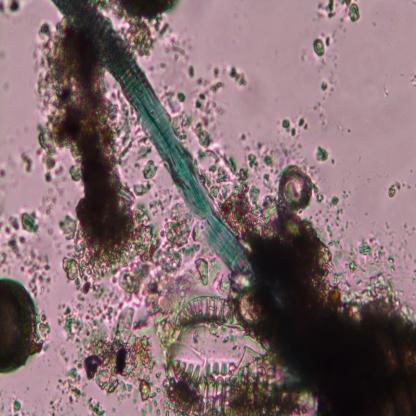Background material: (250, 214, 416, 415), (38, 23, 155, 262), (52, 292, 162, 414), (331, 220, 416, 320), (200, 132, 277, 235), (0, 200, 52, 293), (172, 54, 221, 148), (154, 217, 211, 287), (124, 138, 158, 200), (156, 11, 192, 65), (118, 250, 158, 292), (314, 1, 362, 22), (314, 187, 346, 217), (34, 312, 53, 361), (280, 111, 308, 136), (71, 277, 106, 295), (310, 31, 332, 59), (223, 65, 250, 86), (0, 1, 25, 20), (312, 98, 327, 124), (20, 150, 34, 176), (8, 389, 22, 414), (388, 177, 402, 201), (315, 144, 329, 162), (0, 159, 9, 186), (319, 81, 334, 96), (409, 72, 416, 86)
Diatom: (160, 292, 320, 415), (0, 276, 35, 372), (278, 165, 314, 213), (236, 284, 268, 328)
